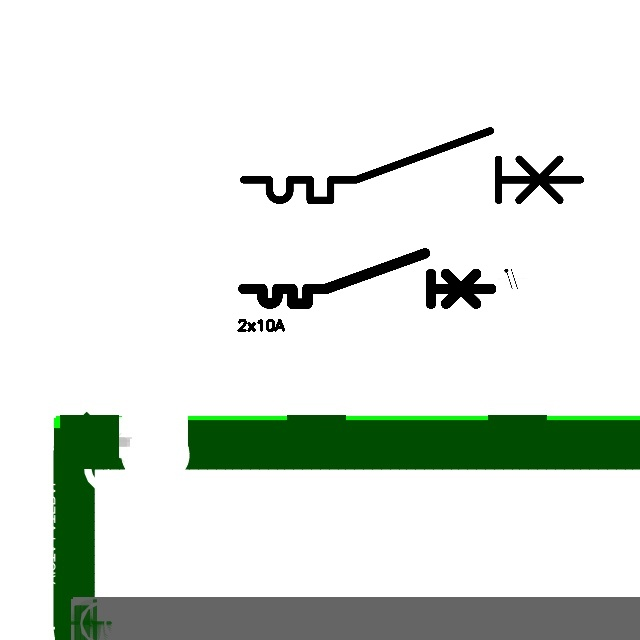interruptor_termomagnetico: (235, 122, 589, 209), (237, 247, 497, 310)
